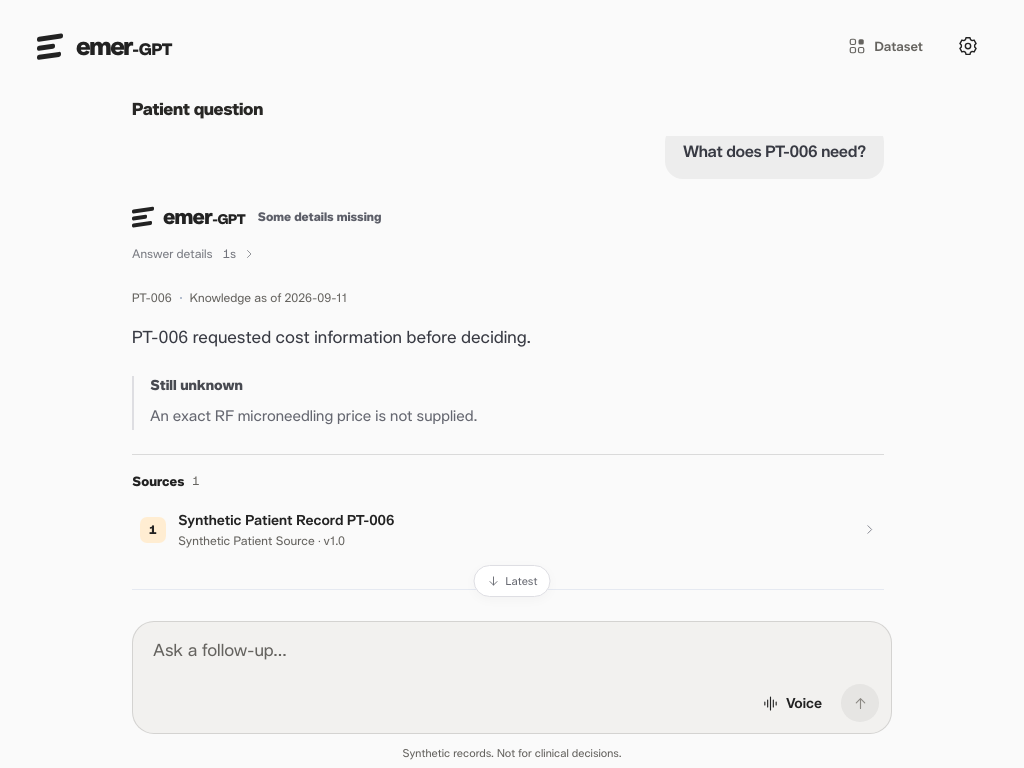
Test: Simplified workspace with HTTP and Live-hook doubles › keeps a reader's position during updates and resumes following only on request
(page scrolled)
Expected: the text "PT-006 requested cost information before deciding." is shown, [132, 325, 531, 348]
Expected: the button "Latest" is shown, [474, 565, 550, 597]
In the text box named "Your question": (512, 652) [145, 636, 879, 668], type "A follow-up I am still writing"
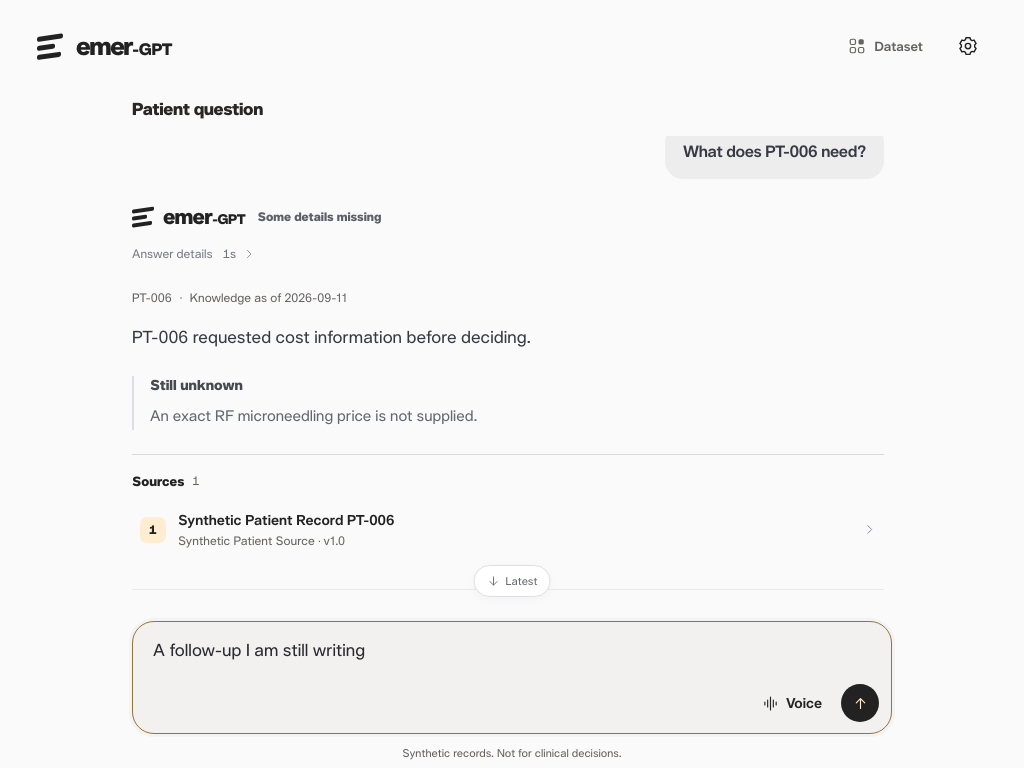
Click the button "Latest": click(512, 581) [474, 565, 550, 597]
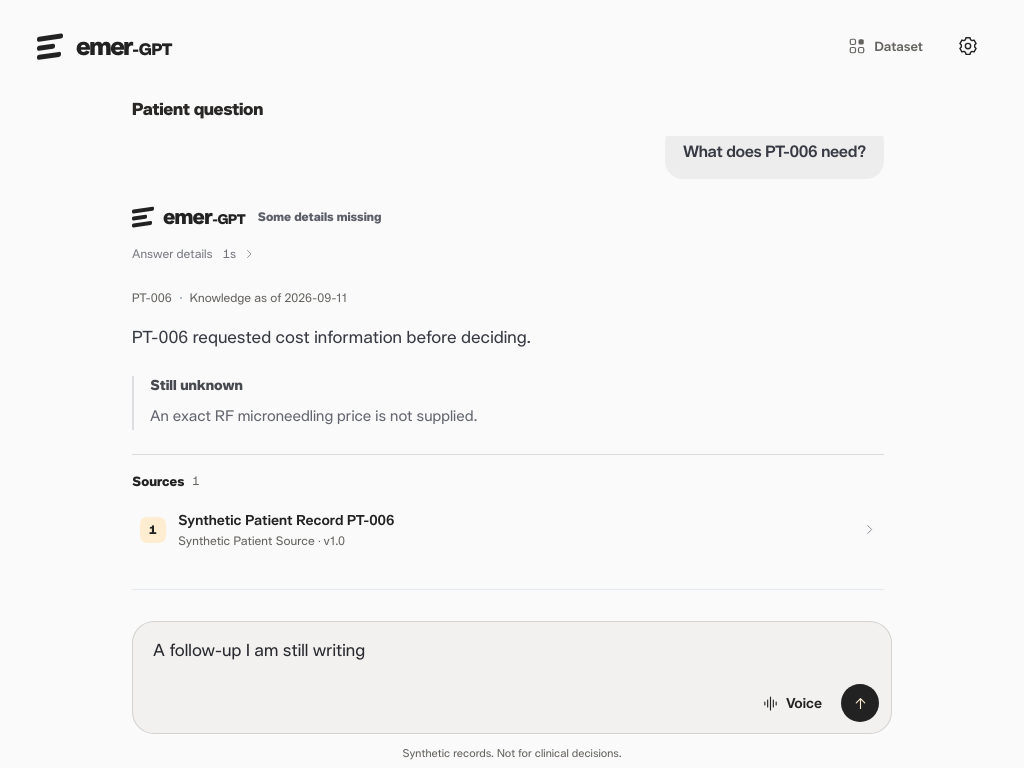
Result: the button "Latest" is gone
